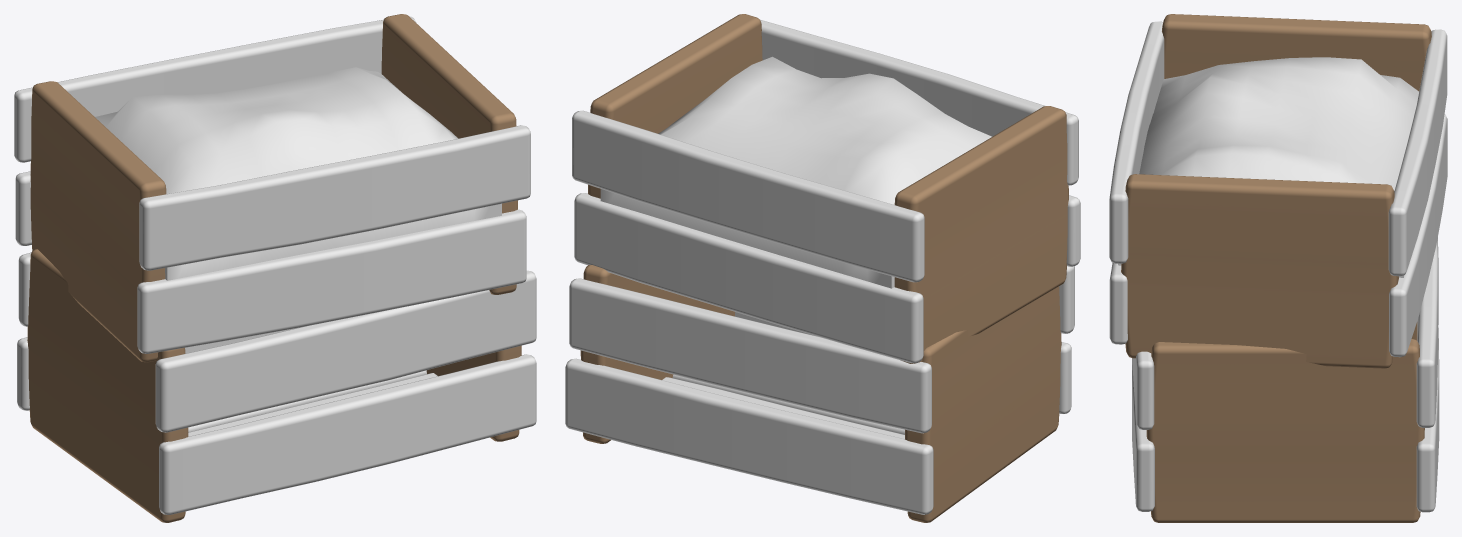
Rendered from pg_crate_5.glb.
3 renders of one model, left to right at view 1: azimuth 30°, elevation 25°; view 2: azimuth 150°, elevation 25°; view 3: azimuth 270°, elevation 25°, orthographic. The views are drawn at different scales.
Visible parts, largest first — view 1: pg_crate_5_pg_slat, pg_crate_5_timber, pg_crate_5_pg_catch; view 2: pg_crate_5_pg_slat, pg_crate_5_timber, pg_crate_5_pg_catch; view 3: pg_crate_5_timber, pg_crate_5_pg_catch, pg_crate_5_pg_slat.
Part boxes in pixels (x1,y1,x2,y2): pg_crate_5_pg_slat: (14, 16, 536, 514); pg_crate_5_timber: (27, 14, 521, 522); pg_crate_5_pg_catch: (95, 67, 501, 280); pg_crate_5_pg_slat: (565, 19, 1080, 514); pg_crate_5_timber: (580, 14, 1068, 522); pg_crate_5_pg_catch: (600, 56, 991, 288); pg_crate_5_timber: (1121, 14, 1431, 522); pg_crate_5_pg_catch: (1118, 57, 1418, 277); pg_crate_5_pg_slat: (1109, 21, 1447, 512).
Bounding box in the file's own units: 0.7977 × 0.6684 × 0.5953.
